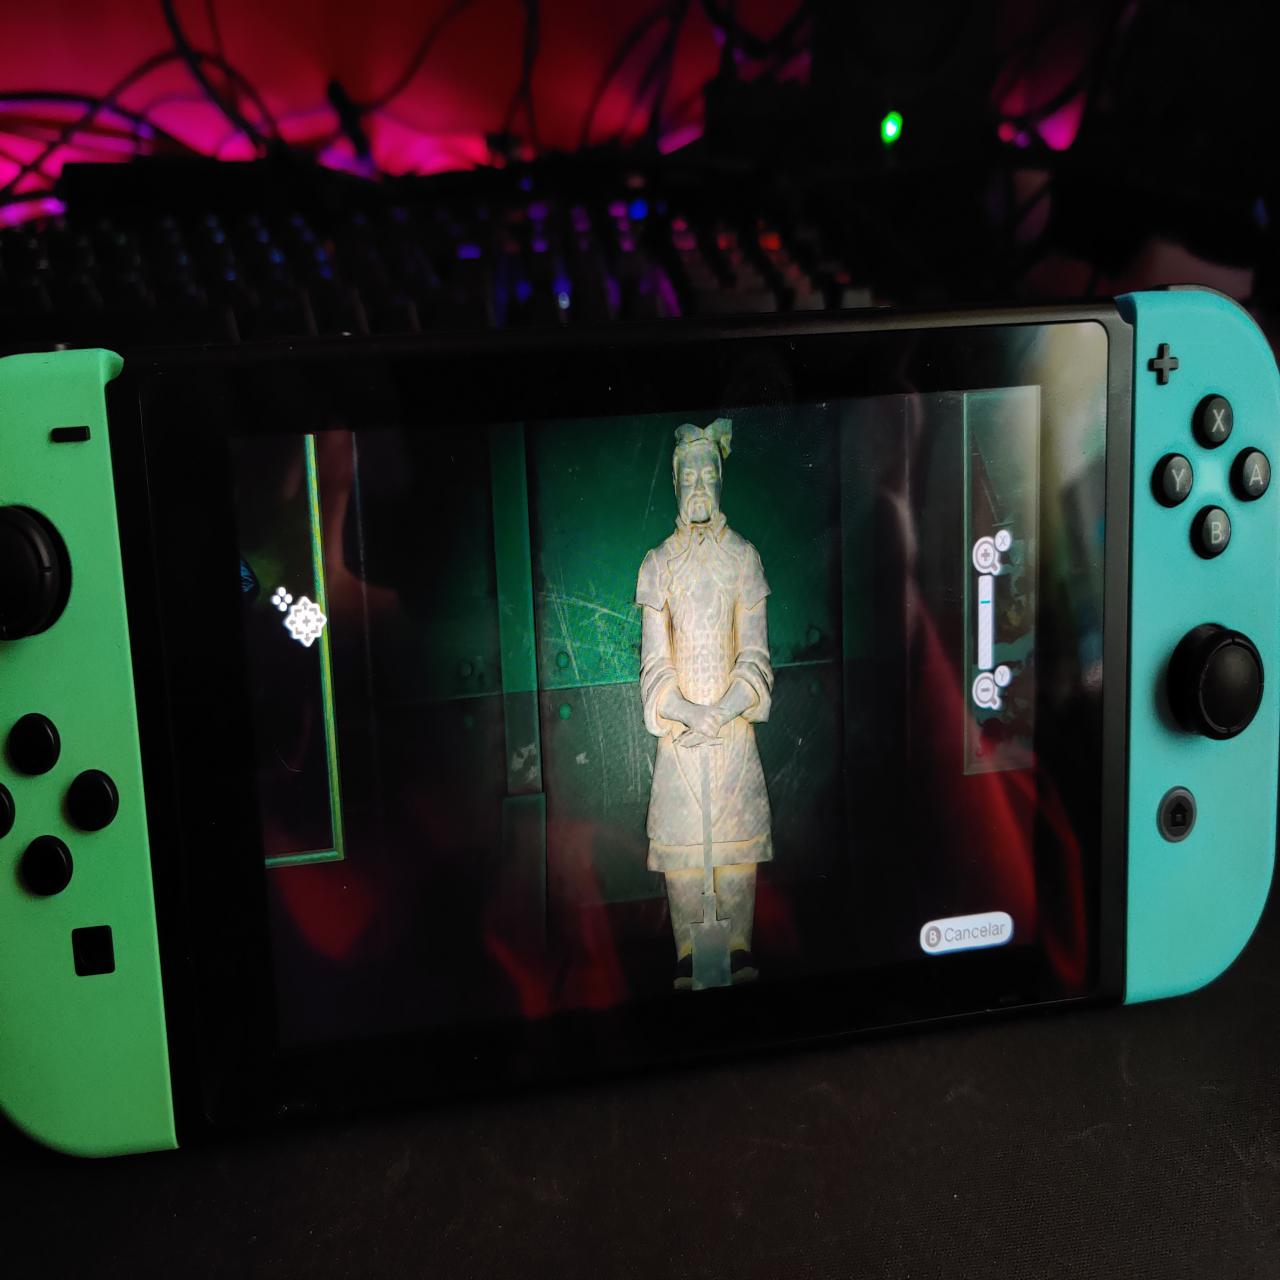HeibayoFake: (636, 418, 778, 990)
